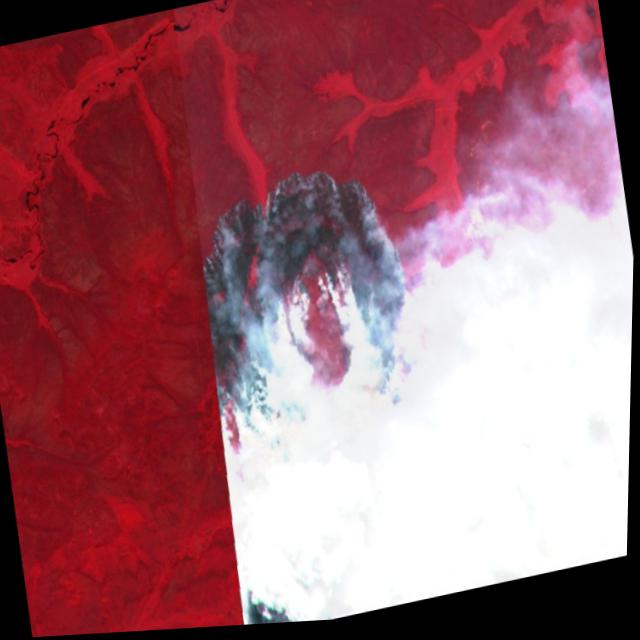fire: (178, 150, 445, 513)
